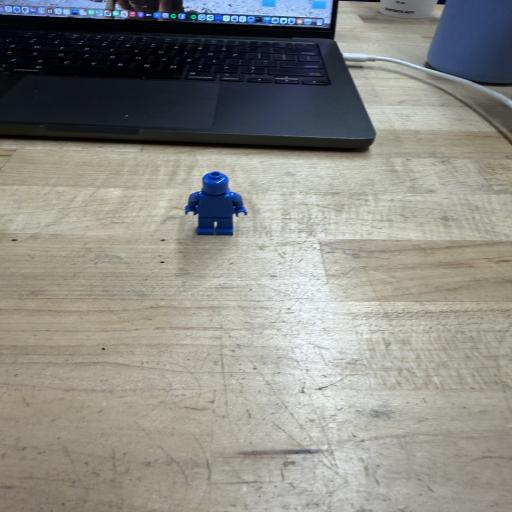blue-minifig: (185, 171, 247, 236)
